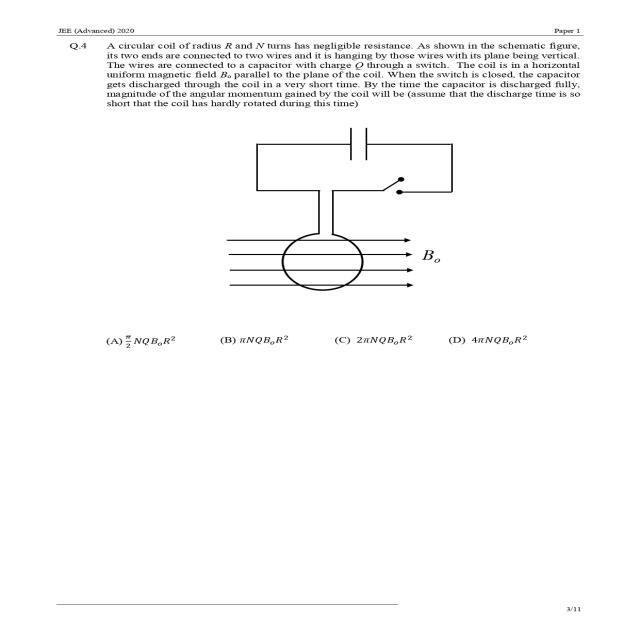Answer_Block: (22, 310, 618, 370)
Question_Answer_Block: (21, 38, 618, 476)
Question_Block: (21, 38, 618, 306)
Question_Paper_Area: (20, 36, 620, 477)
